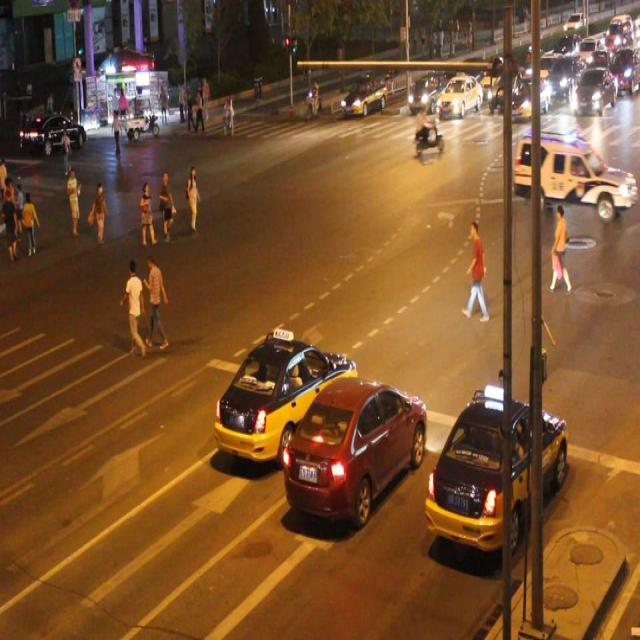car: (426, 389, 565, 552), (285, 377, 425, 524), (214, 332, 356, 466), (515, 125, 629, 218), (436, 73, 481, 117), (341, 73, 385, 117), (405, 75, 439, 111)
